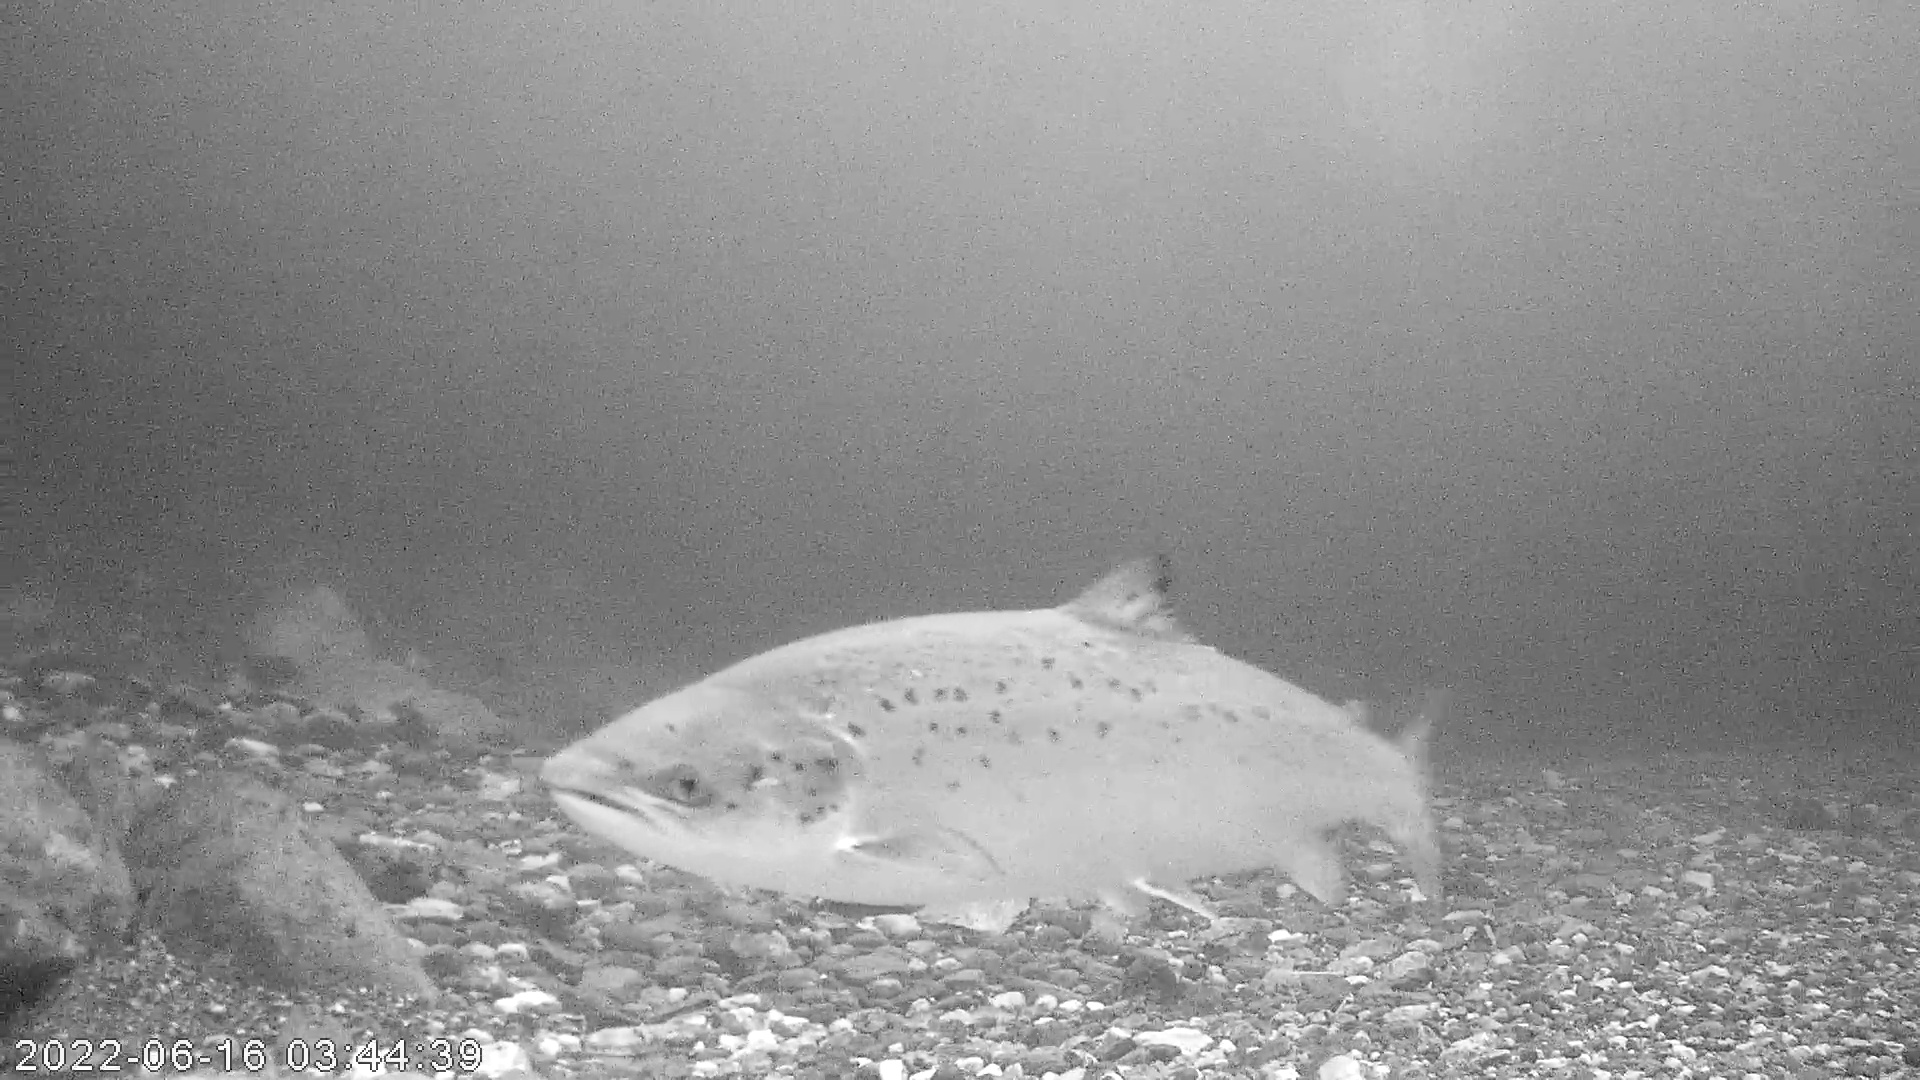salmon: (537, 546, 1451, 920)
